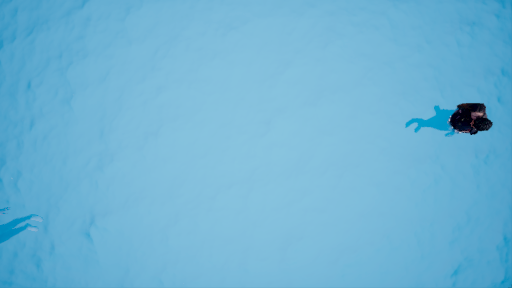person: (404, 101, 490, 142)
